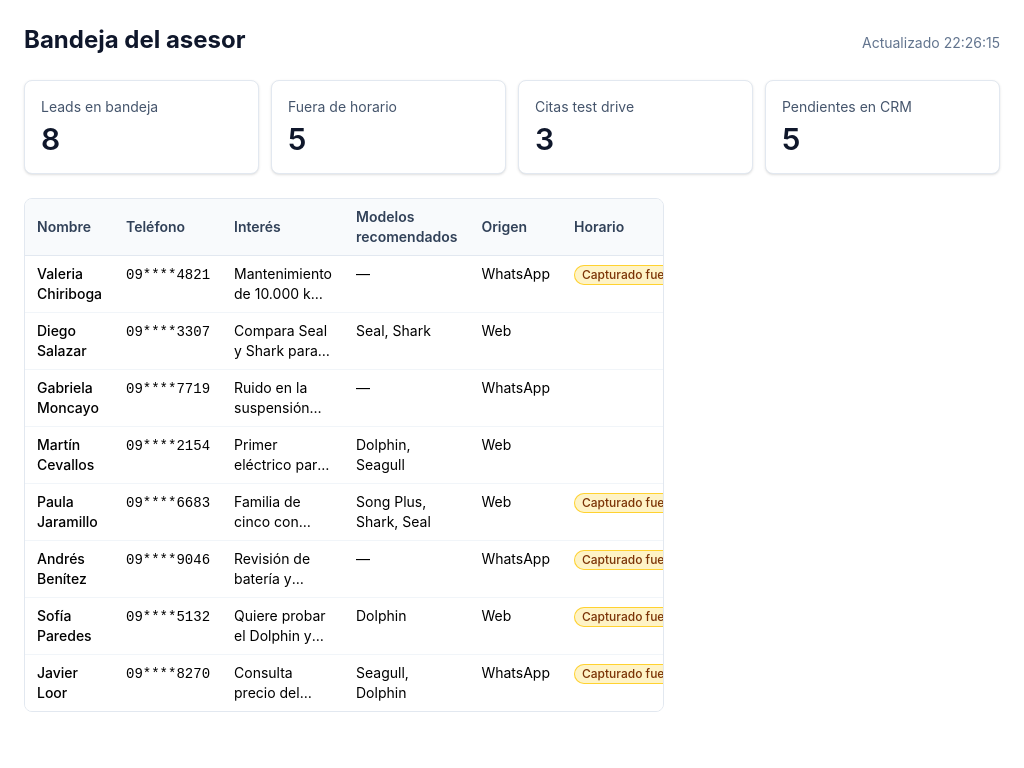
Scenario: AsesorPage › al hacer click en "Diego Salazar" abre el detalle
This screenshot has width=1024, height=768.
Expected: the table named "Leads en bandeja" is shown, [25, 199, 664, 711]
What coordinates should you click on to do the following:
click the text "Diego Salazar"
I would click on:
 (62, 340)
Its box is [37, 322, 87, 359].
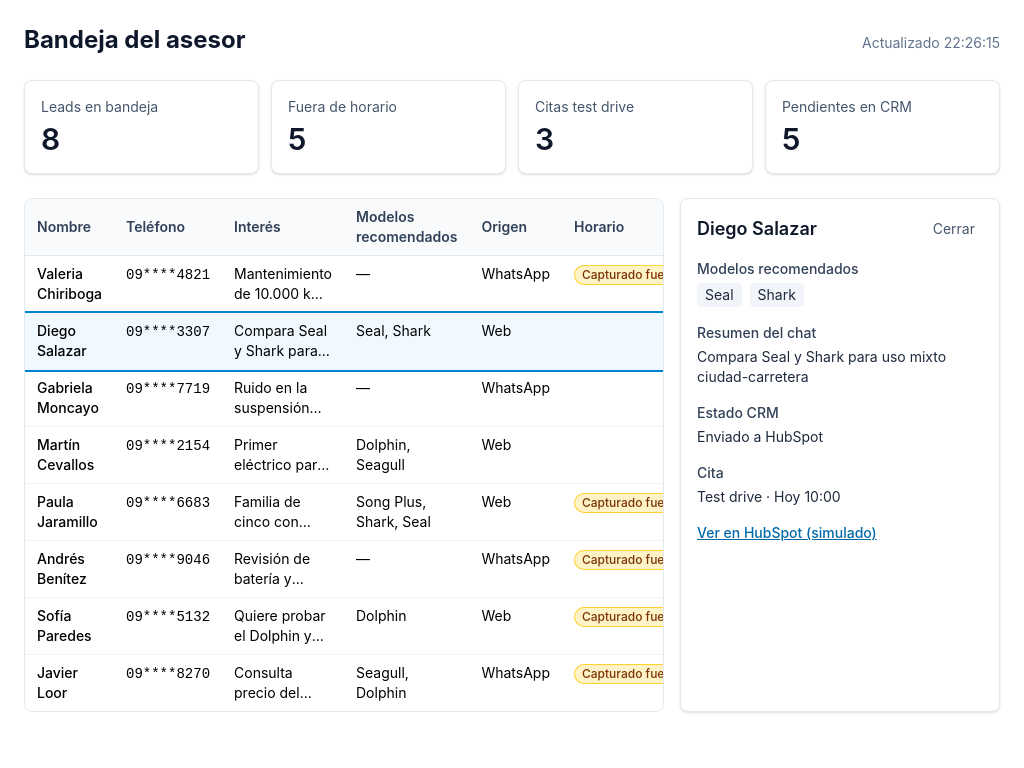
Expected: the list item "Seal" is shown, [697, 283, 742, 307]
Expected: the list item "Shark" is shown, [750, 283, 804, 307]
Expected: the text "Resumen del chat" is shown, [697, 324, 816, 341]
